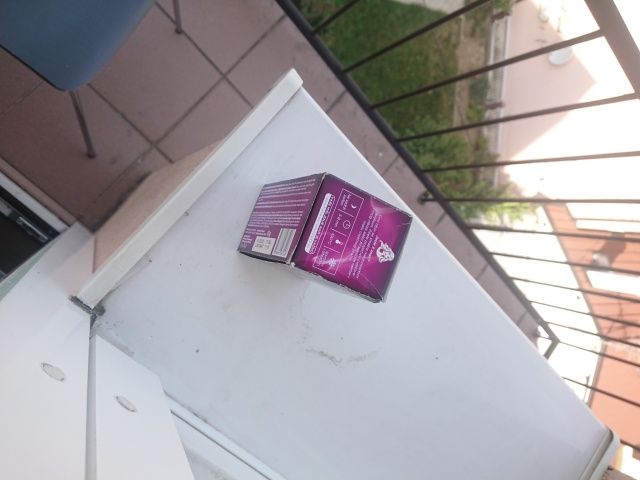Franck Black Currant Tea 60g: (234, 170, 415, 306)
